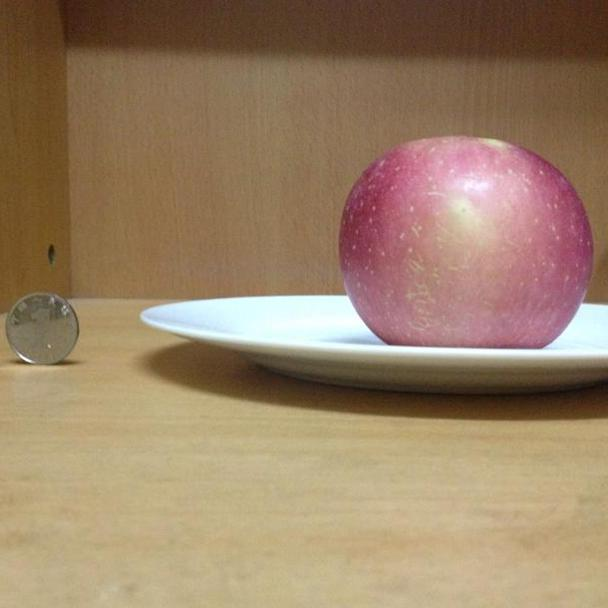apple: (338, 134, 595, 347)
